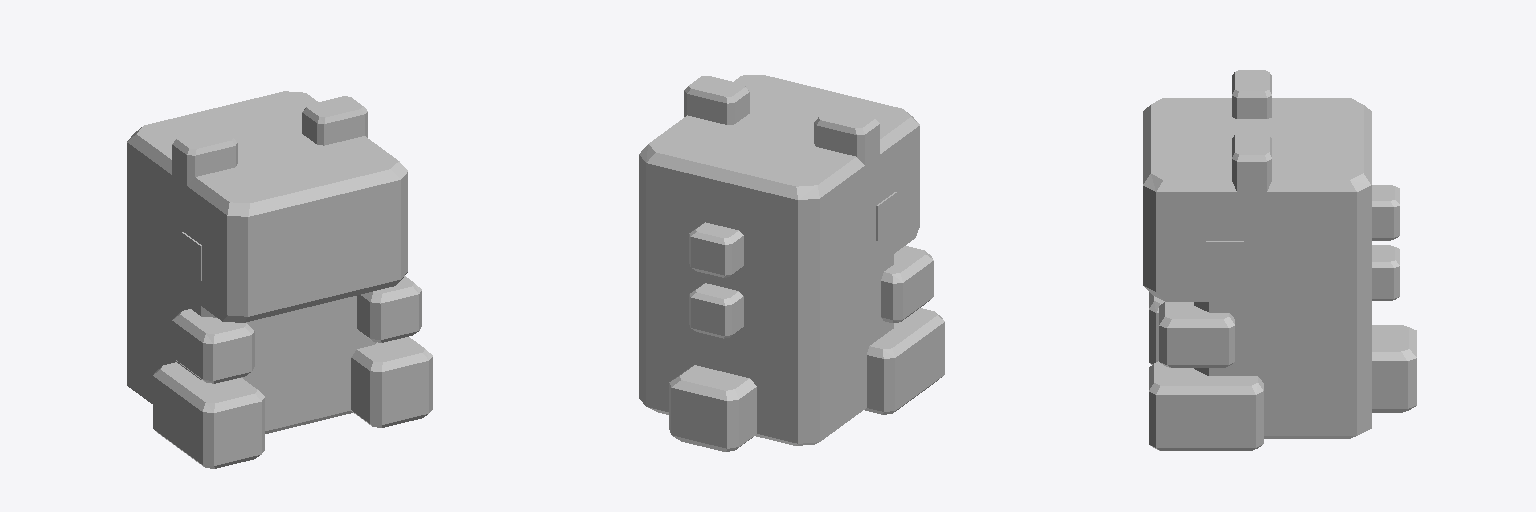
The model's file is 000 - Substitute Doll.obj.
3 renders of one model, left to right at view 1: azimuth 30°, elevation 25°; view 2: azimuth 150°, elevation 25°; view 3: azimuth 270°, elevation 25°, orthographic.
Visible parts, largest first — view 1: Substitute Doll; view 2: Substitute Doll; view 3: Substitute Doll.
Boxes of the visible parts, x1=… form: Substitute Doll: x1=127, y1=91, x2=432, y2=468; Substitute Doll: x1=639, y1=75, x2=944, y2=451; Substitute Doll: x1=1143, y1=70, x2=1416, y2=450.
Size of the model in its own units: 1.91 by 2.28 by 1.97.